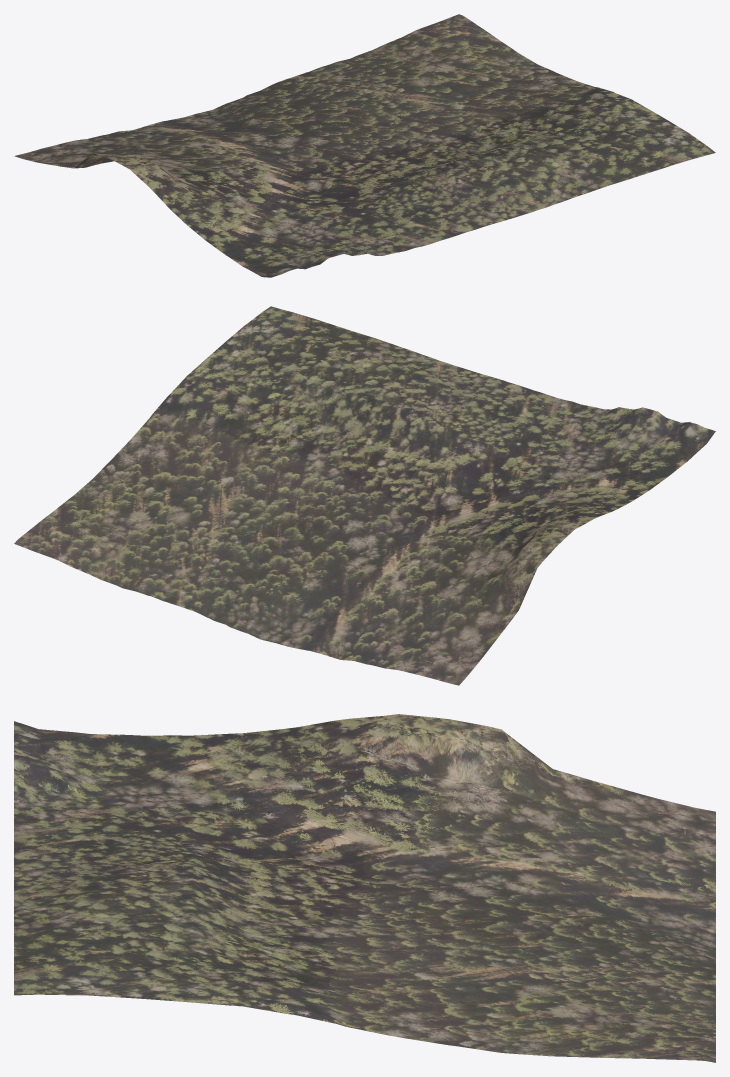
File: CM_Terrain_24492711_6816927.fbx
3 renders of one model, top to bottom at view 1: azimuth 30°, elevation 25°; view 2: azimuth 150°, elevation 25°; view 3: azimuth 270°, elevation 25°, orthographic. The views are drawn at different scales.
Parts seen in each view (by area): view 1: CM_Terrain_24492711_6816927_LOD0; view 2: CM_Terrain_24492711_6816927_LOD0; view 3: CM_Terrain_24492711_6816927_LOD0.
Part boxes in pixels (x1=…): CM_Terrain_24492711_6816927_LOD0: x1=14, y1=14, x2=715, y2=277; CM_Terrain_24492711_6816927_LOD0: x1=14, y1=306, x2=715, y2=685; CM_Terrain_24492711_6816927_LOD0: x1=14, y1=714, x2=715, y2=1062.
Size of what is drawn, in the model's own units: 205 by 37.97 by 205.
